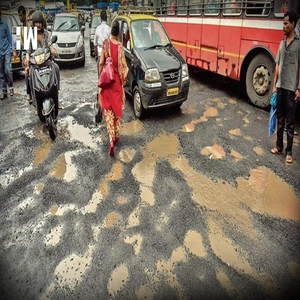pothole: (245, 166, 300, 232), (106, 262, 138, 295), (51, 151, 82, 185), (202, 140, 226, 157)
